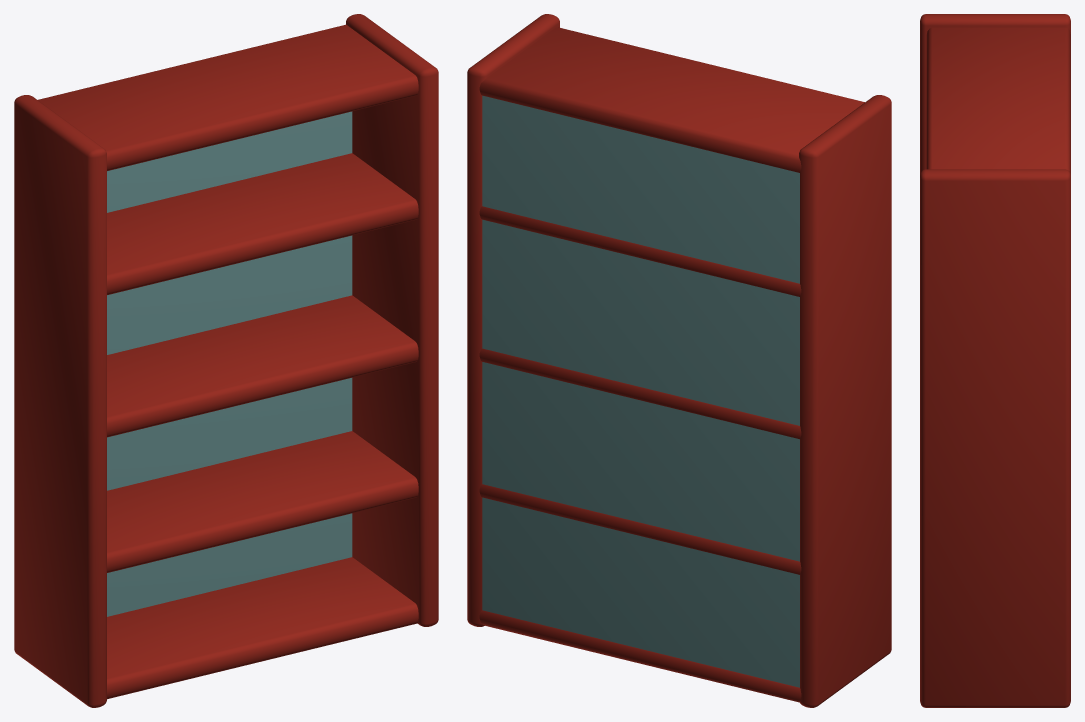
Rendered from Shelf_01.fbx.
The picture shows the model from 3 angles, left to right: view 1: azimuth 30°, elevation 25°; view 2: azimuth 150°, elevation 25°; view 3: azimuth 270°, elevation 25°; orthographic projection. The views are drawn at different scales.
Parts seen in each view (by area): view 1: Shelf_01; view 2: Shelf_01; view 3: Shelf_01.
Boxes of the visible parts, <box> form: Shelf_01: <box>14,14,438,707</box>; Shelf_01: <box>467,14,891,707</box>; Shelf_01: <box>920,14,1070,707</box>.
Bounding box in the file's own units: 123 × 186 × 47.59.
